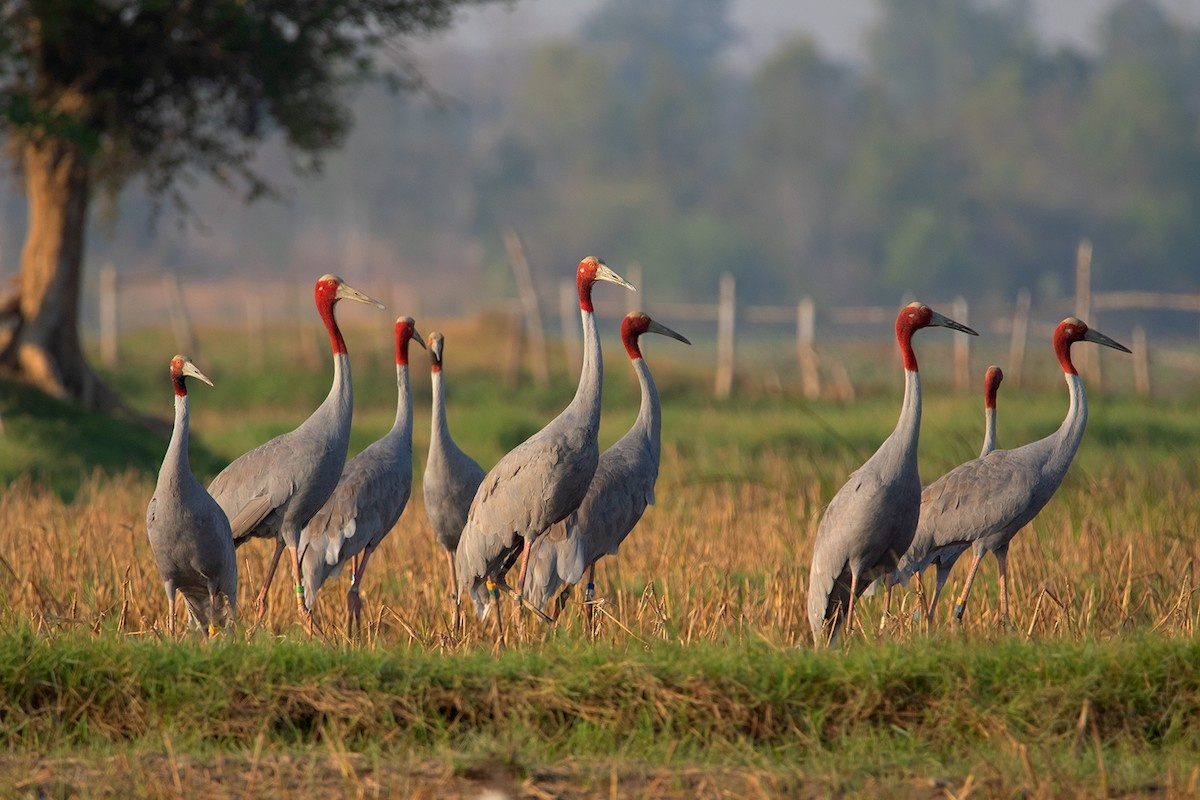crane: (907, 316, 1132, 642), (466, 243, 639, 647), (801, 292, 980, 636), (213, 263, 386, 575), (566, 304, 701, 595), (150, 344, 246, 640), (332, 298, 428, 576), (423, 322, 488, 539), (969, 360, 1012, 451)
